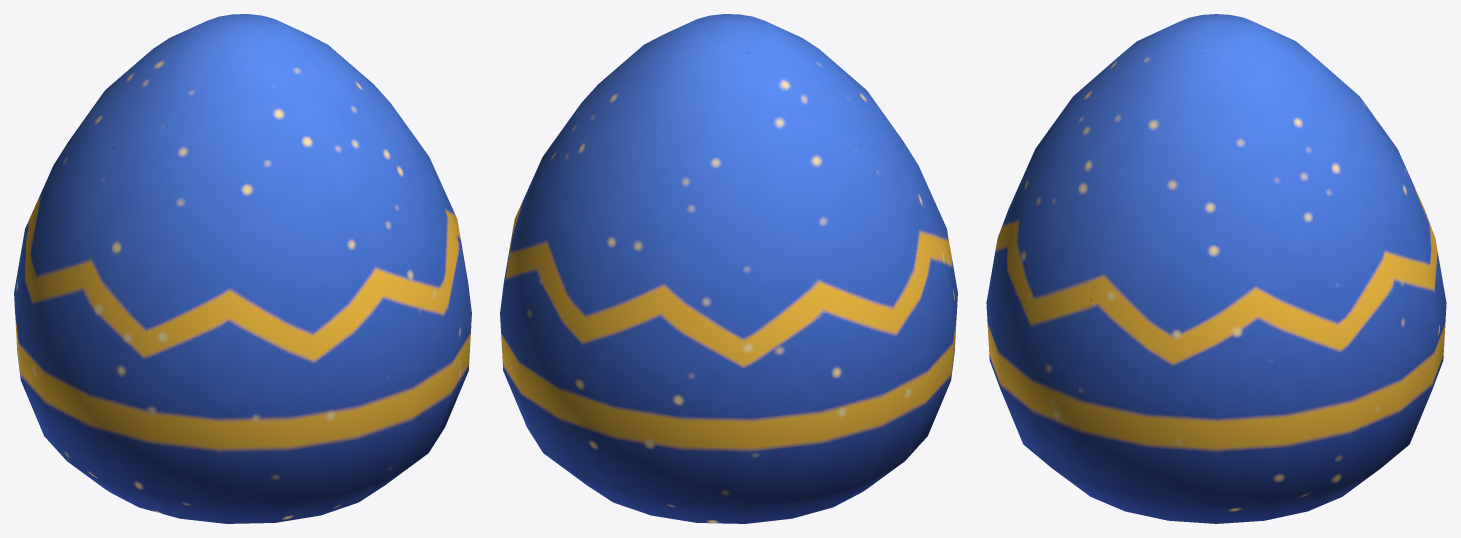
The model's file is PharaohEgg.fbx.
3 views of the same model, side by side, from view 1: azimuth 30°, elevation 25°; view 2: azimuth 150°, elevation 25°; view 3: azimuth 270°, elevation 25° (orthographic).
Visible parts, largest first — view 1: PharaohEgg; view 2: PharaohEgg; view 3: PharaohEgg.
Part boxes in pixels (<box>): PharaohEgg: <box>14,14,471,523</box>; PharaohEgg: <box>500,14,957,523</box>; PharaohEgg: <box>986,14,1446,523</box>.
Size of the model in its own units: 290 by 318 by 290.
Materials: 1 (1 with a texture image).
